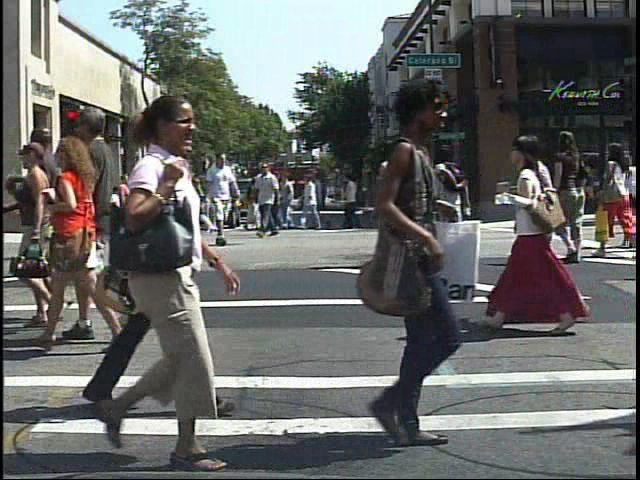person: (310, 77, 504, 459), (71, 84, 254, 475), (31, 124, 140, 353), (61, 99, 134, 352), (505, 125, 587, 348), (533, 130, 567, 345), (553, 127, 598, 264), (595, 135, 634, 261), (435, 140, 467, 268), (206, 149, 236, 249), (139, 160, 170, 245), (81, 162, 110, 248), (156, 158, 187, 238), (393, 163, 420, 235), (65, 181, 91, 244), (82, 183, 102, 226), (397, 133, 398, 275)
